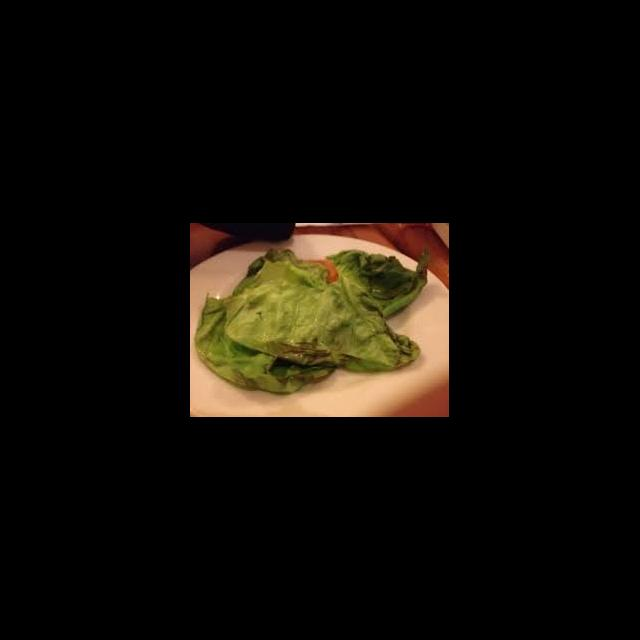food_waste: (211, 258, 410, 386)
